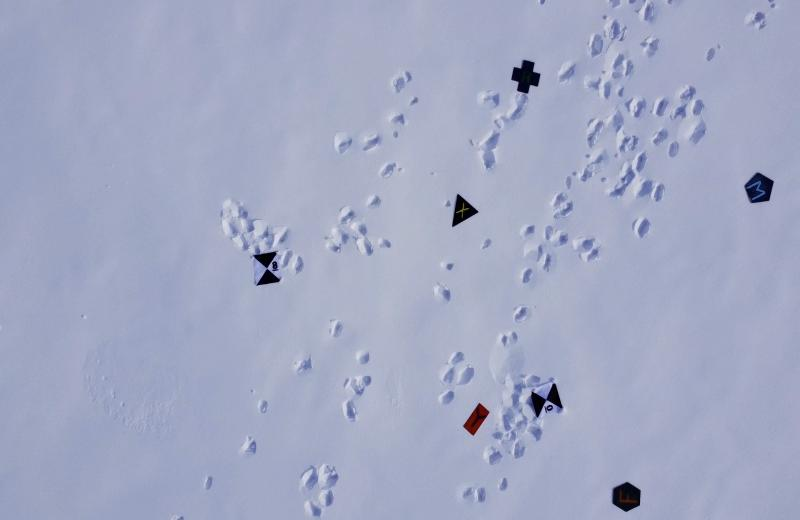Cross: (510, 58, 540, 97)
Hexagon: (609, 480, 644, 514)
Pentagon: (742, 170, 776, 207)
Rectangle: (460, 402, 490, 439)
Triangle: (449, 194, 480, 230)
